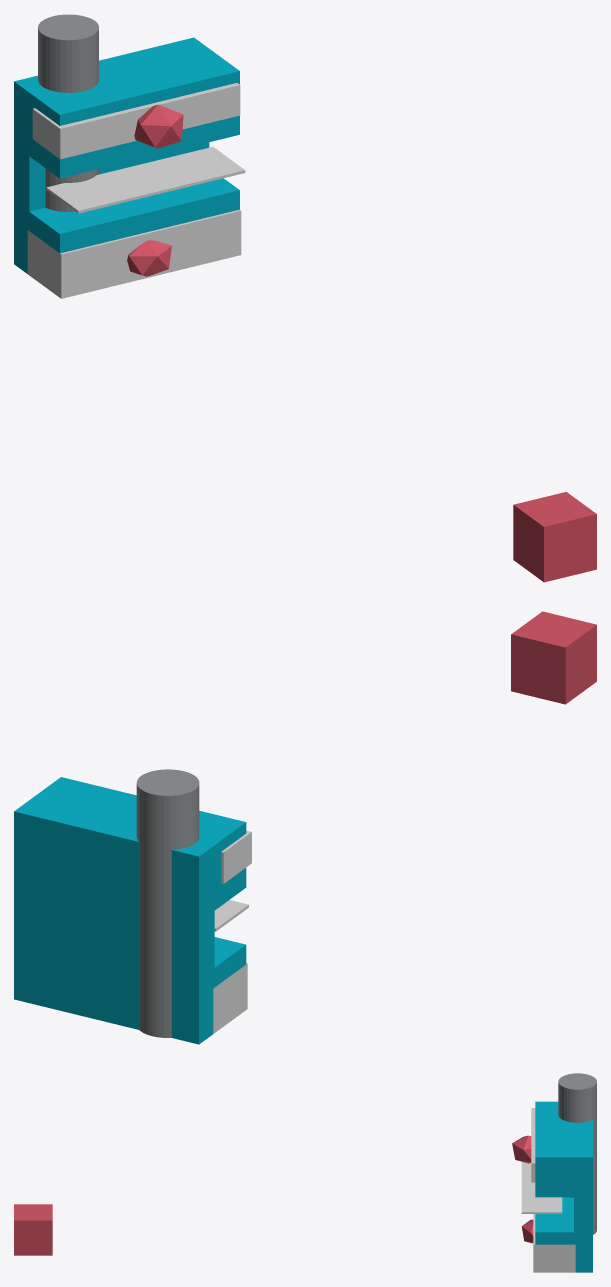
File: Funky Crift.glb
3 renders of one model, top to bottom at view 1: azimuth 30°, elevation 25°; view 2: azimuth 150°, elevation 25°; view 3: azimuth 270°, elevation 25°, orthographic. The views are drawn at different scales.
Parts seen in each view (by area): view 1: Mesh_Mesh_head_geo.001_lambert2SG.001; view 2: Mesh_Mesh_head_geo.001_lambert2SG.001; view 3: Mesh_Mesh_head_geo.001_lambert2SG.001.
Boxes of the visible parts, x1,y1,x2,y2 form: Mesh_Mesh_head_geo.001_lambert2SG.001: (14,14,596,582); Mesh_Mesh_head_geo.001_lambert2SG.001: (14,611,596,1044); Mesh_Mesh_head_geo.001_lambert2SG.001: (14,1073,596,1272).
Bounding box in the file's own units: 69 × 85 × 302.
